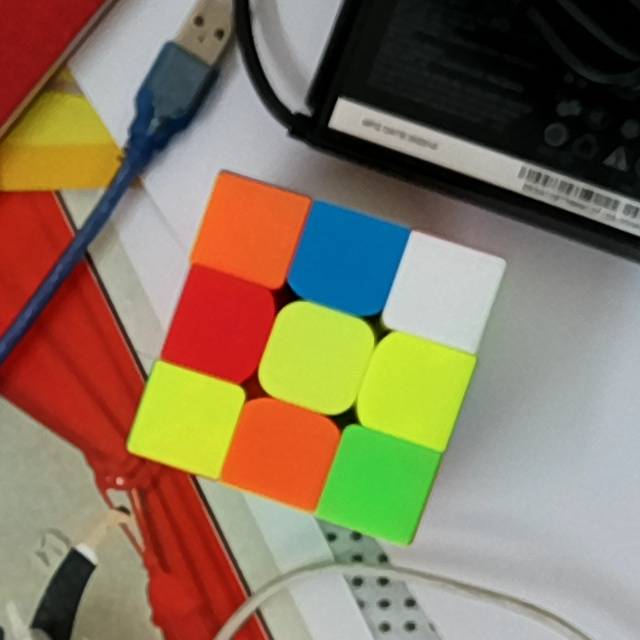tile: (406, 253, 485, 328), (277, 322, 356, 396), (242, 417, 321, 488), (342, 447, 416, 522), (309, 226, 383, 299), (377, 350, 452, 422), (186, 290, 257, 364), (150, 385, 224, 454), (212, 196, 284, 266)
